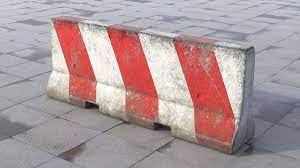obstacle: (47, 11, 255, 156)
